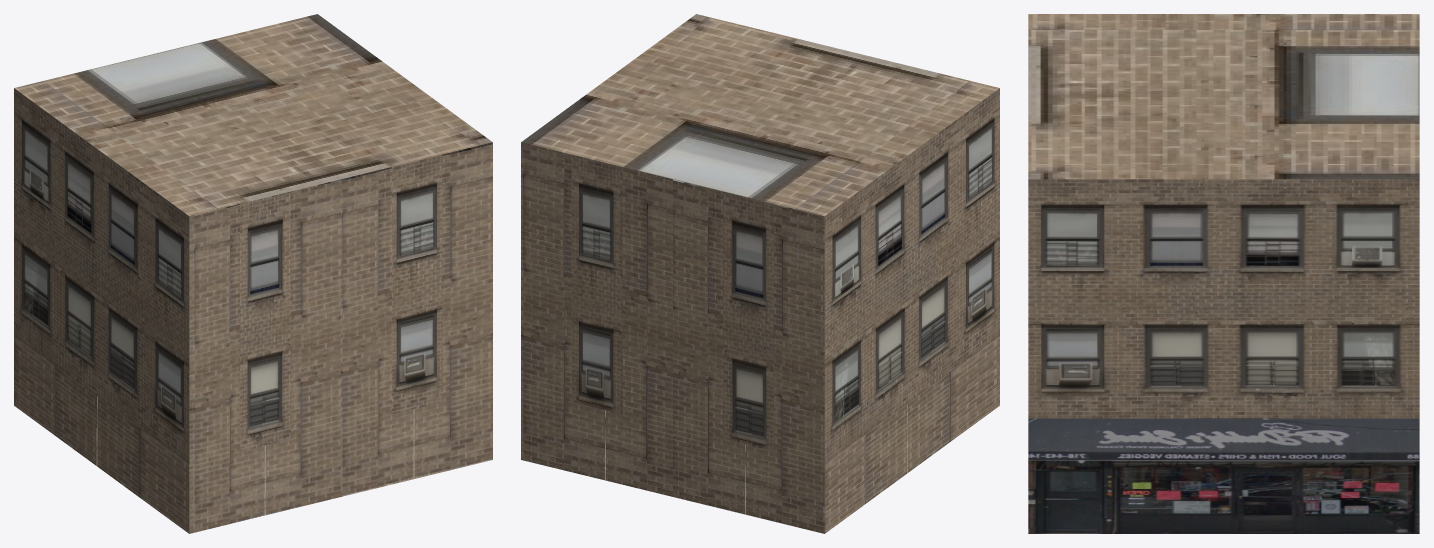
The model's file is edificio 4.fbx.
3 renders of one model, left to right at view 1: azimuth 30°, elevation 25°; view 2: azimuth 150°, elevation 25°; view 3: azimuth 270°, elevation 25°, orthographic. The views are drawn at different scales.
Parts seen in each view (by area): view 1: Cube; view 2: Cube; view 3: Cube.
Part boxes in pixels (x1=…): Cube: x1=14, y1=14, x2=492, y2=533; Cube: x1=521, y1=14, x2=999, y2=533; Cube: x1=1028, y1=14, x2=1419, y2=533.
Bounding box in the file's own units: 200 × 200 × 200.
